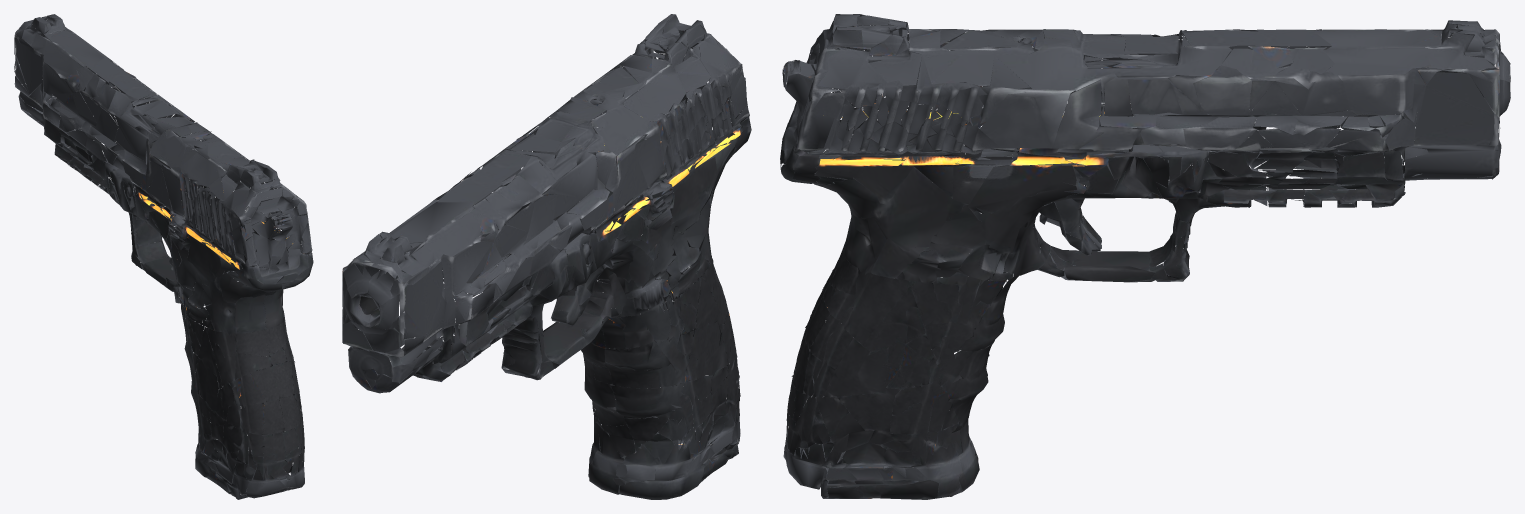
File: pistol.glb
3 views of the same model, side by side, from view 1: azimuth 30°, elevation 25°; view 2: azimuth 150°, elevation 25°; view 3: azimuth 270°, elevation 25° (orthographic). The views are drawn at different scales.
Visible parts, largest first — view 1: PistolBody, PistolMag; view 2: PistolBody, PistolMag; view 3: PistolBody, PistolMag.
Part boxes in pixels (x1=…): PistolBody: x1=14, y1=14, x2=313, y2=466; PistolMag: x1=195, y1=413, x2=304, y2=499; PistolBody: x1=342, y1=14, x2=751, y2=444; PistolMag: x1=588, y1=371, x2=740, y2=499; PistolBody: x1=780, y1=14, x2=1510, y2=454; PistolMag: x1=783, y1=390, x2=979, y2=499.
Bounding box in the file's own units: 0.0454 × 0.1773 × 0.2581.
Materials: 1 (1 with a texture image).
